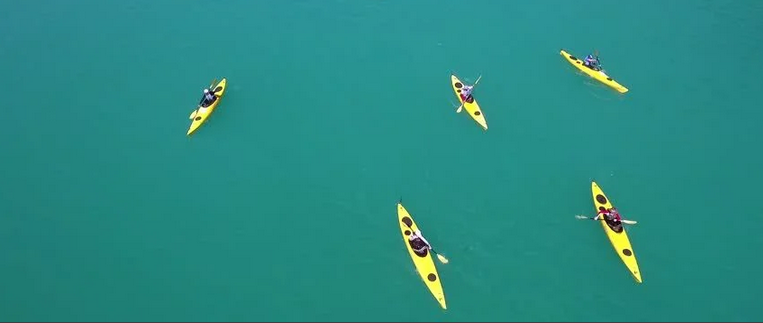kayaker: (574, 177, 653, 286), (394, 197, 452, 312), (558, 39, 630, 98), (446, 70, 492, 132), (185, 77, 228, 138)
